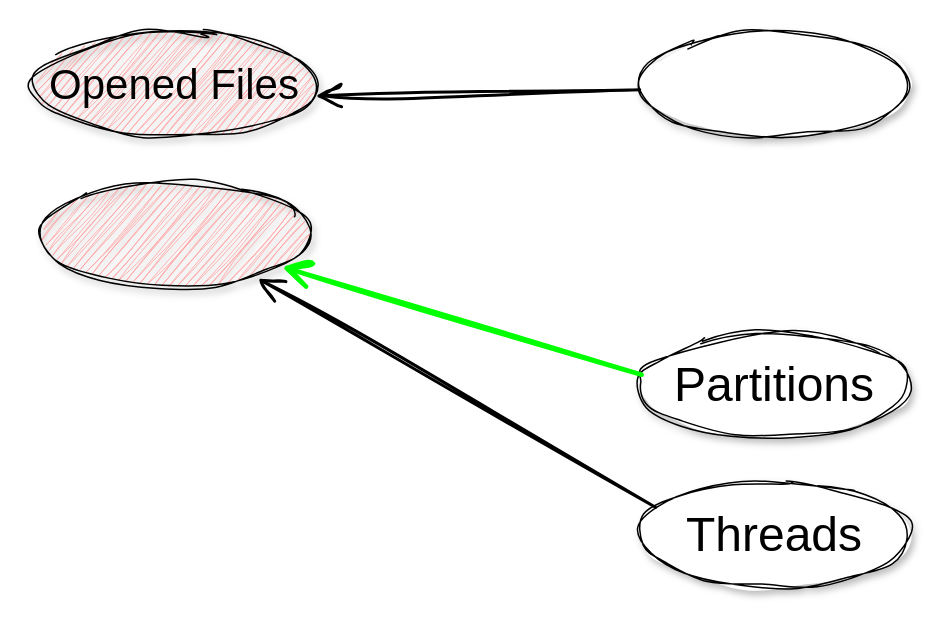
Image size: 945x624. Some labels were removed from this diagram. The centre of each missing label's shape, as x and y in pixels:
"Peak ram" goes at pixel 175 236.
"Samples" goes at pixel 775 86.
